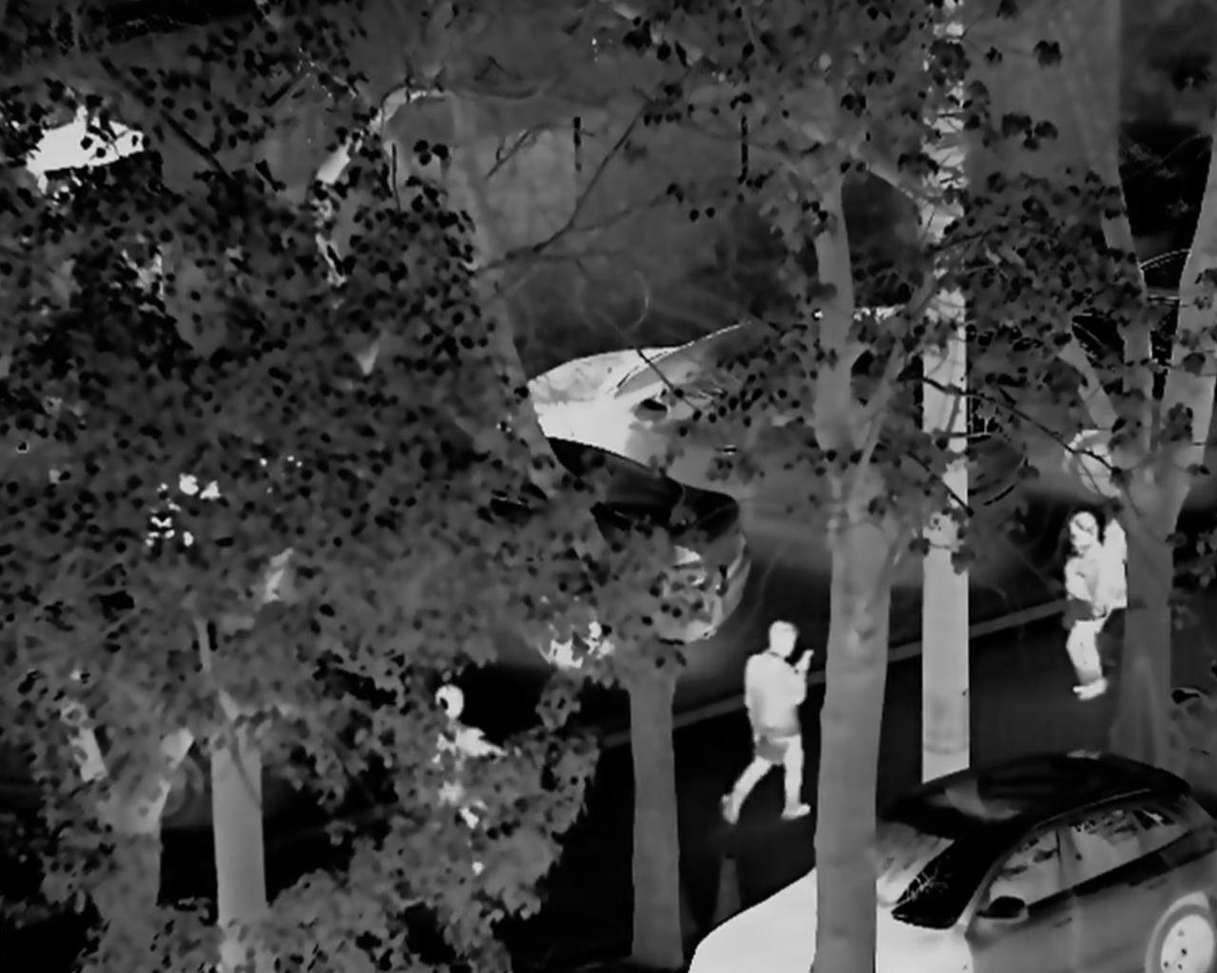person: (718, 604, 817, 848), (417, 682, 500, 873), (1053, 510, 1126, 705)
